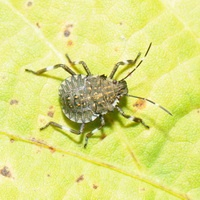insect: (25, 43, 151, 142)
